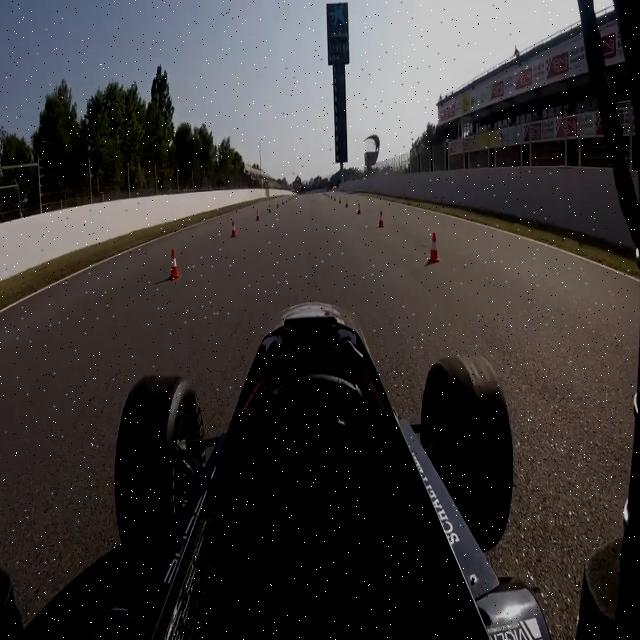orange_cone: (167, 244, 180, 281), (428, 230, 442, 264), (230, 220, 237, 238), (378, 210, 384, 230), (256, 208, 260, 222), (357, 202, 361, 215)
